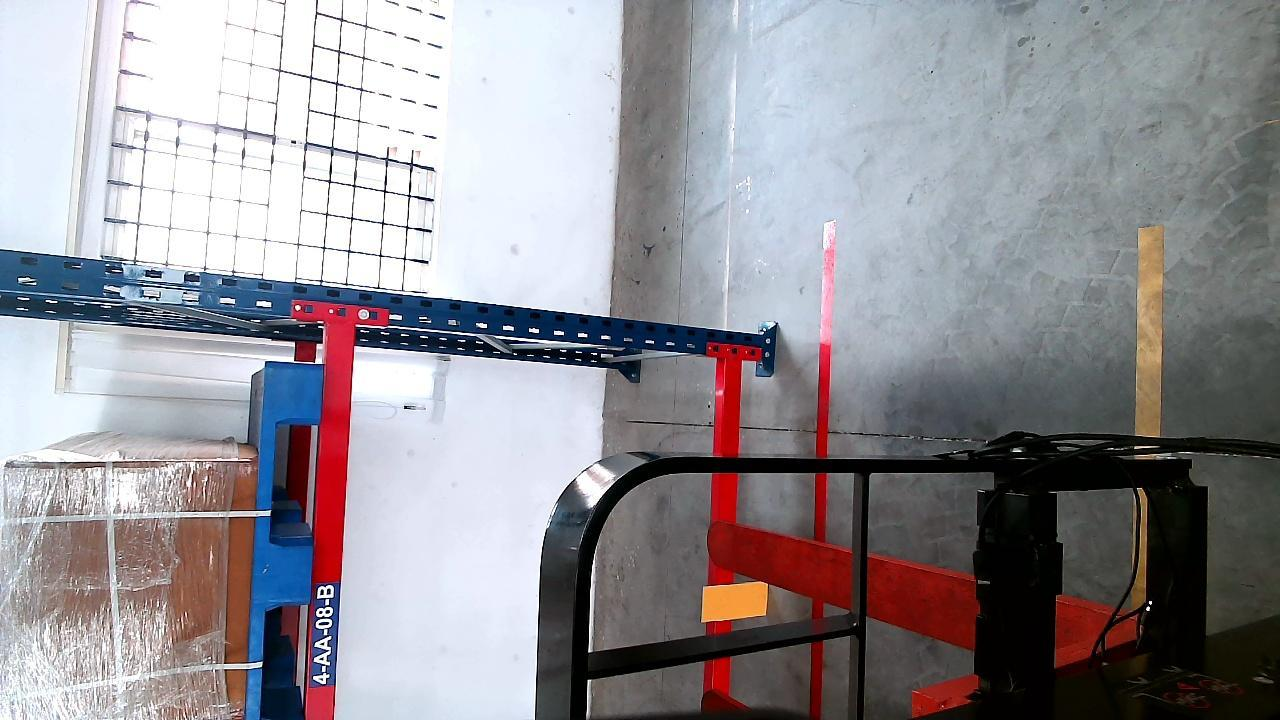red_line: (813, 228, 836, 544)
yellow_line: (1137, 222, 1163, 442)
